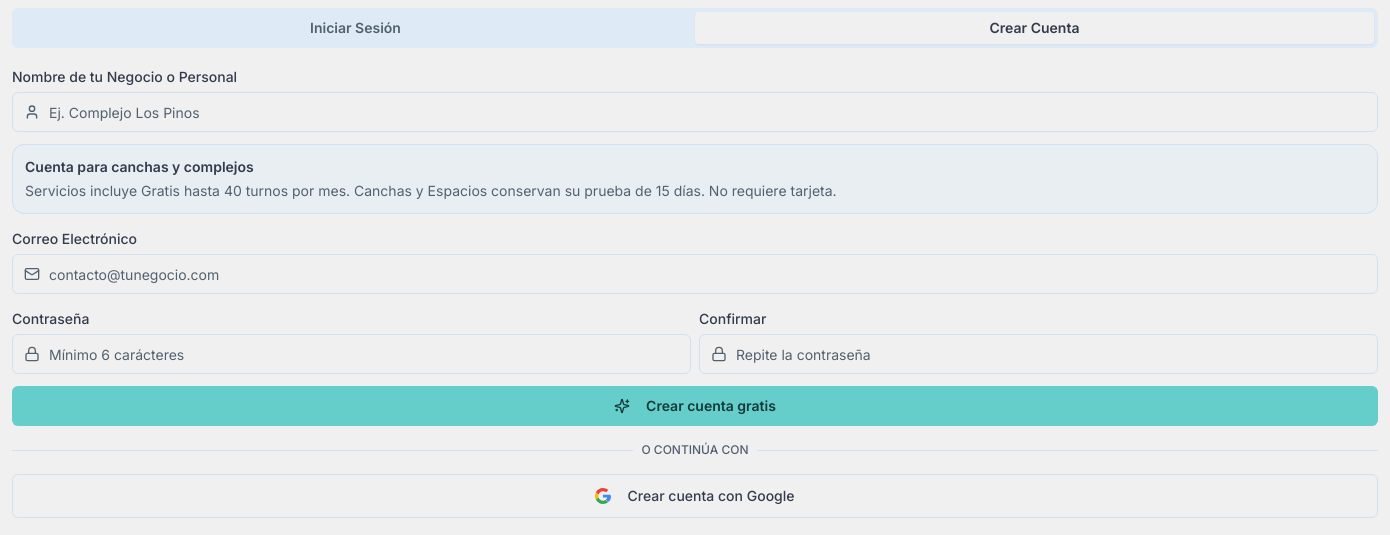
Test: AuthForm › does not bootstrap an email account until the address is verified
This screenshot has width=1390, height=535.
Later steps or results of the test are not shown.
Type "Club Verificado" into the field labelled "Nombre de tu Negocio o Personal".
click(695, 112); type("Club Verificado")  # box [12,92,1378,132]
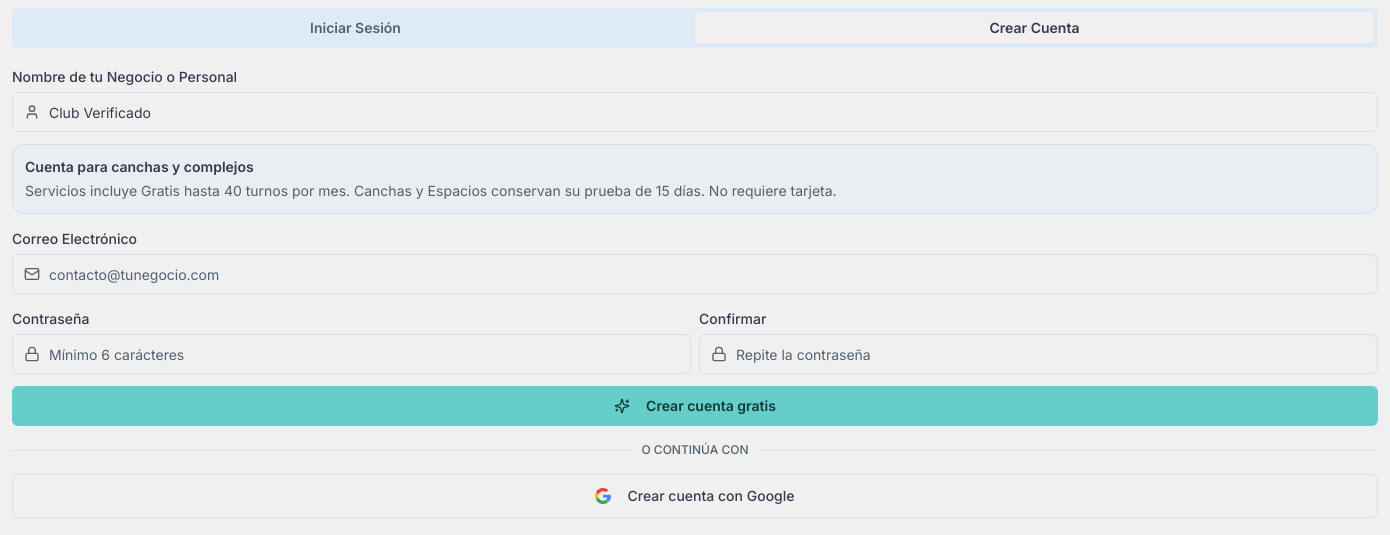
Type "nuevo@example.com" into the field labelled "Correo Electrónico".
click(695, 274); type("nuevo@example.com")  # box [12,254,1378,294]
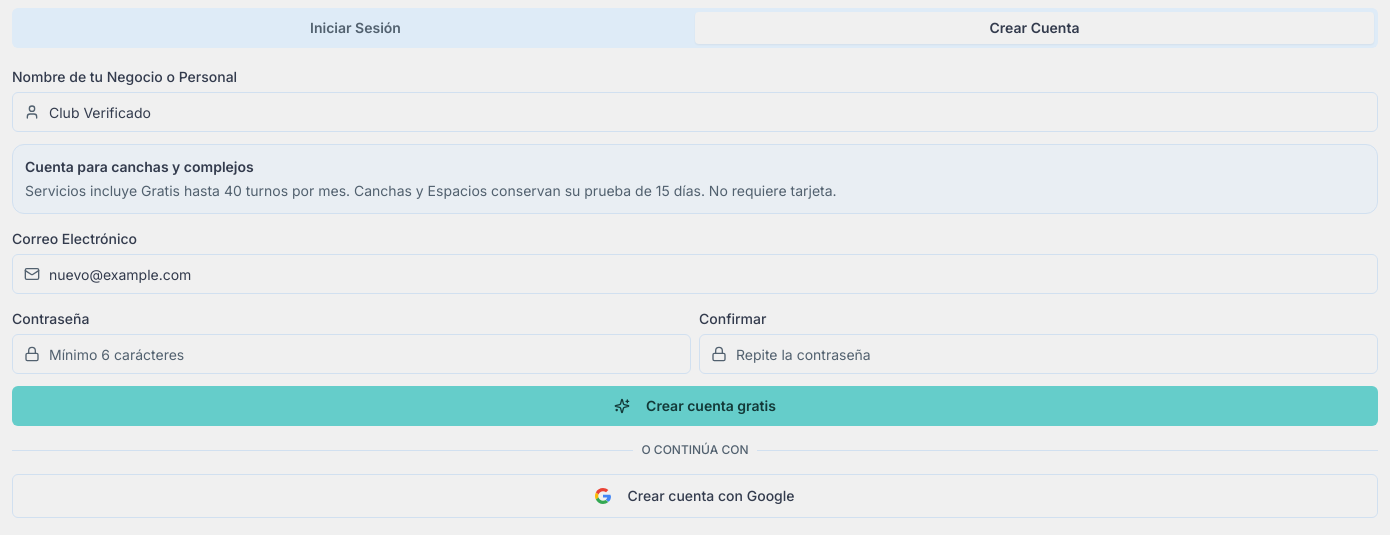
Type "secret123" into the password field labelled "Contraseña".
click(352, 354); type("secret123")  # box [12,334,691,374]
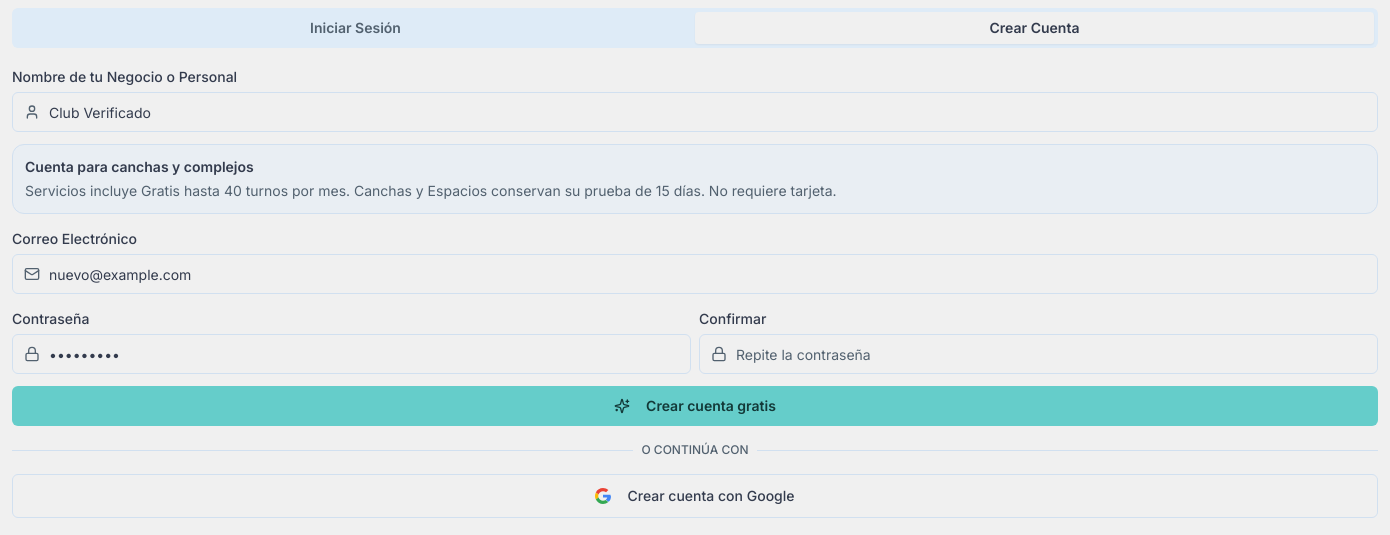
Type "secret123" into the password field labelled "Confirmar".
click(1038, 354); type("secret123")  # box [699,334,1378,374]
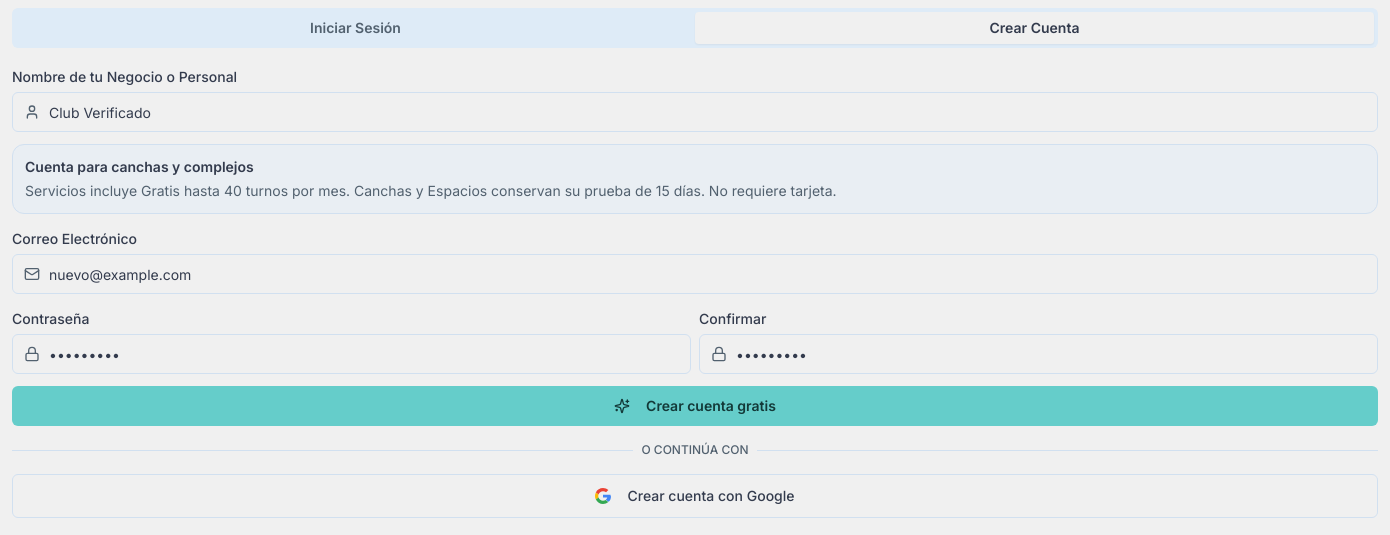
Click the button "Crear cuenta gratis".
click(695, 406)  # box [12,386,1378,426]
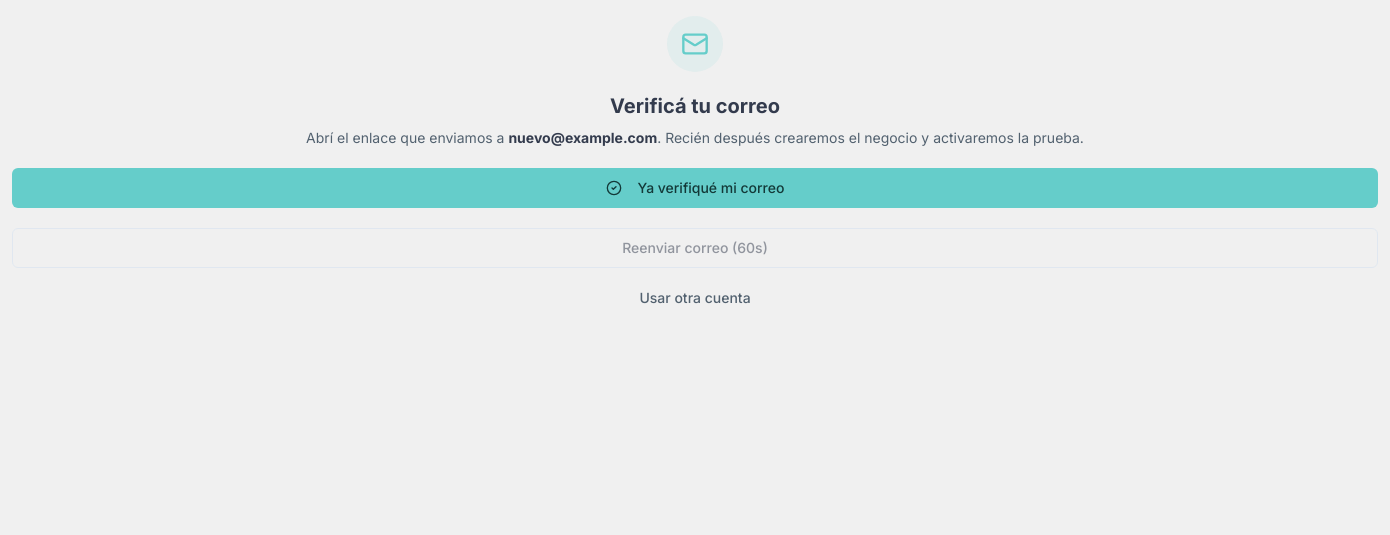
Check: the heading "Verificá tu correo" is shown, box [610,94,780,118]
Check: the button "Reenviar correo (60s)" is disabled, box [12,228,1378,268]
